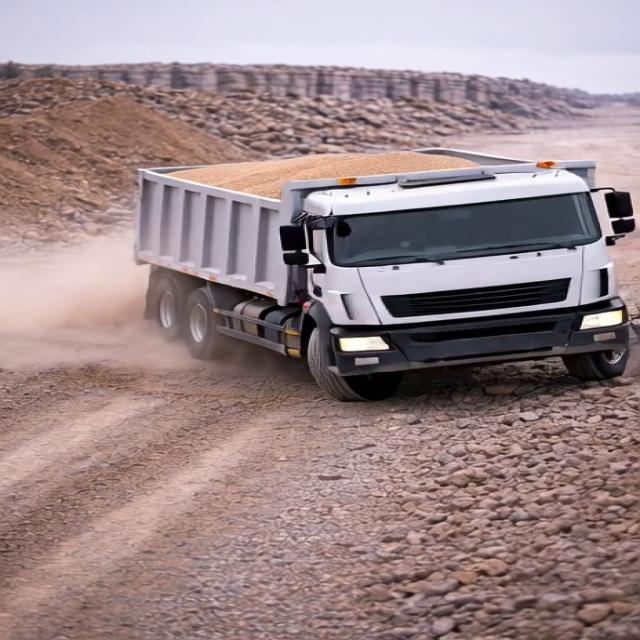trailer: (112, 120, 619, 395), (116, 148, 596, 198)
